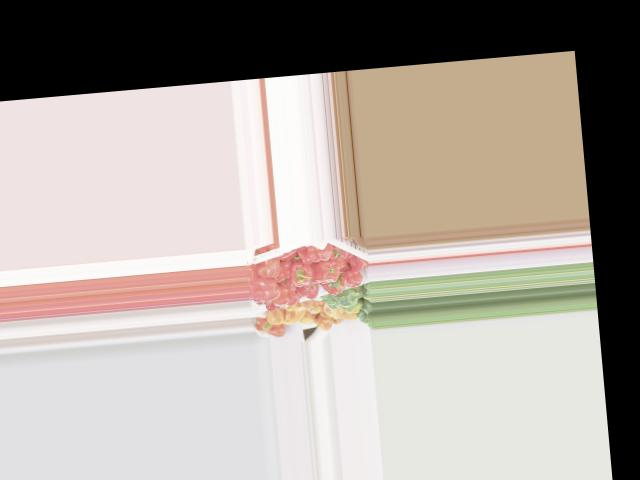bell_pepper: (296, 241, 334, 264)
